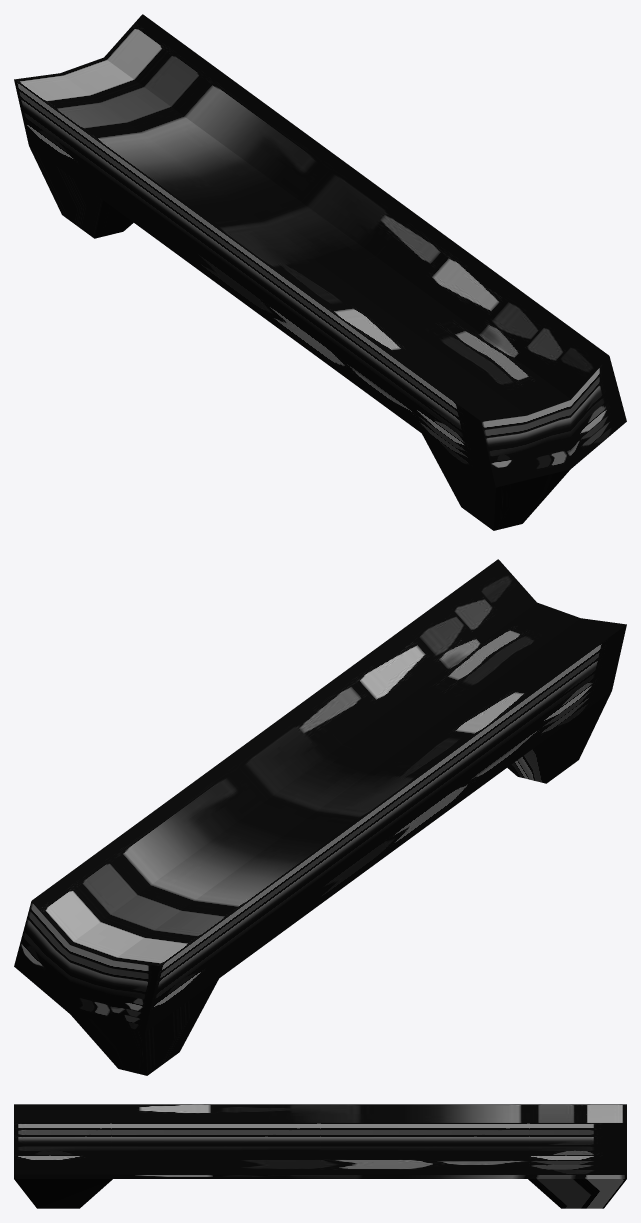
The model's file is spoiler2.DAE.
3 renders of one model, top to bottom at view 1: azimuth 30°, elevation 25°; view 2: azimuth 150°, elevation 25°; view 3: azimuth 270°, elevation 25°, orthographic. The views are drawn at different scales.
Visible parts, largest first — view 1: spoiler2; view 2: spoiler2; view 3: spoiler2.
Part boxes in pixels (bbox=[...]): spoiler2: bbox=[14, 14, 626, 530]; spoiler2: bbox=[14, 559, 626, 1075]; spoiler2: bbox=[14, 1104, 626, 1208].
Size of the model in its own units: 18.21 by 101 by 19.54.
Materials: 1 (1 with a texture image).
